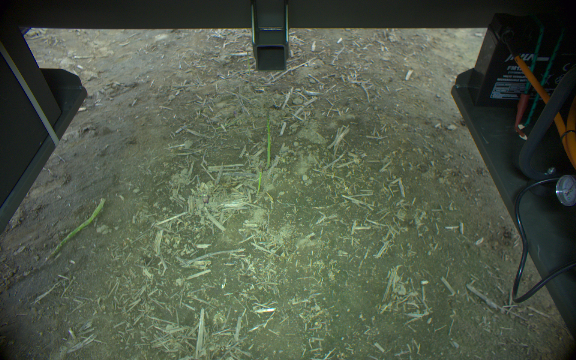aspa: (46, 196, 107, 262), (265, 120, 273, 171), (254, 170, 262, 197)
